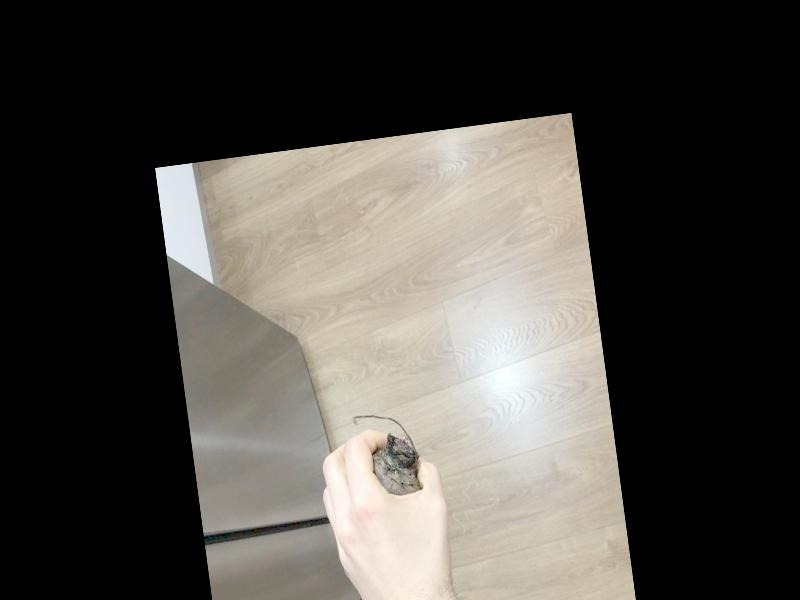Beet: (350, 406, 423, 500)
